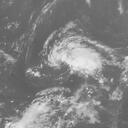cyclone: (45, 36, 108, 78)
